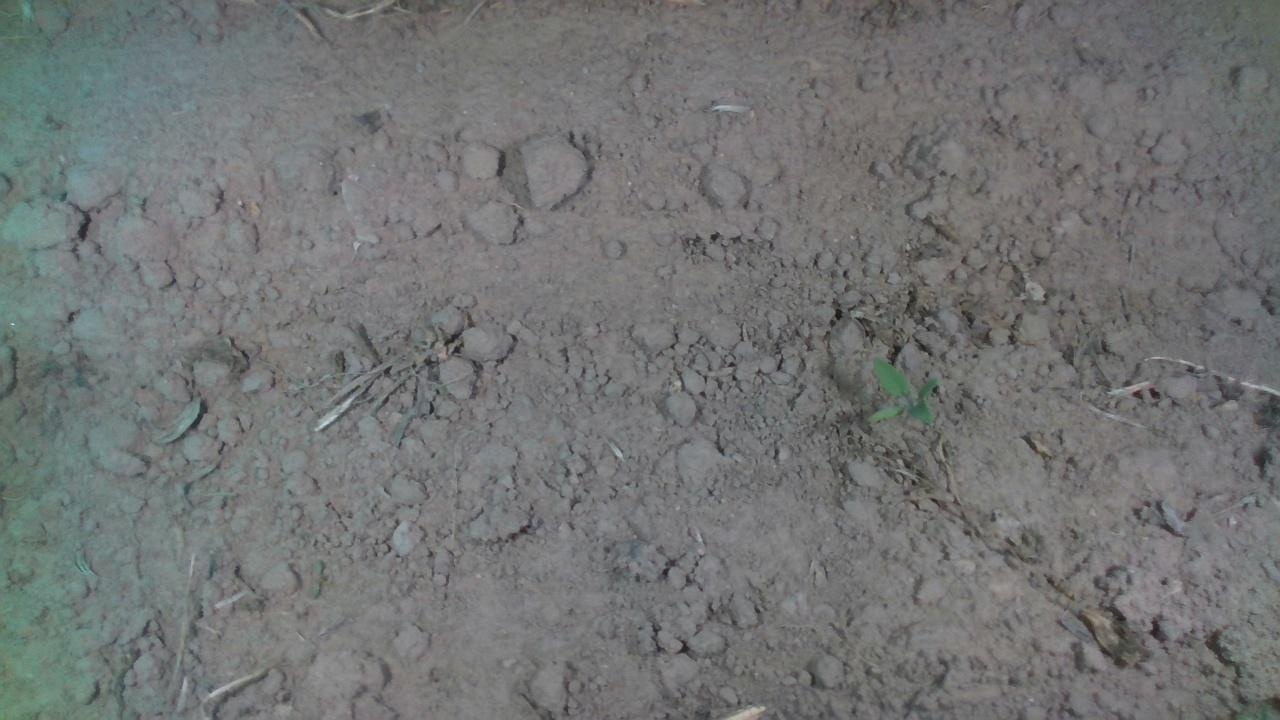weed: (866, 355, 939, 424)
